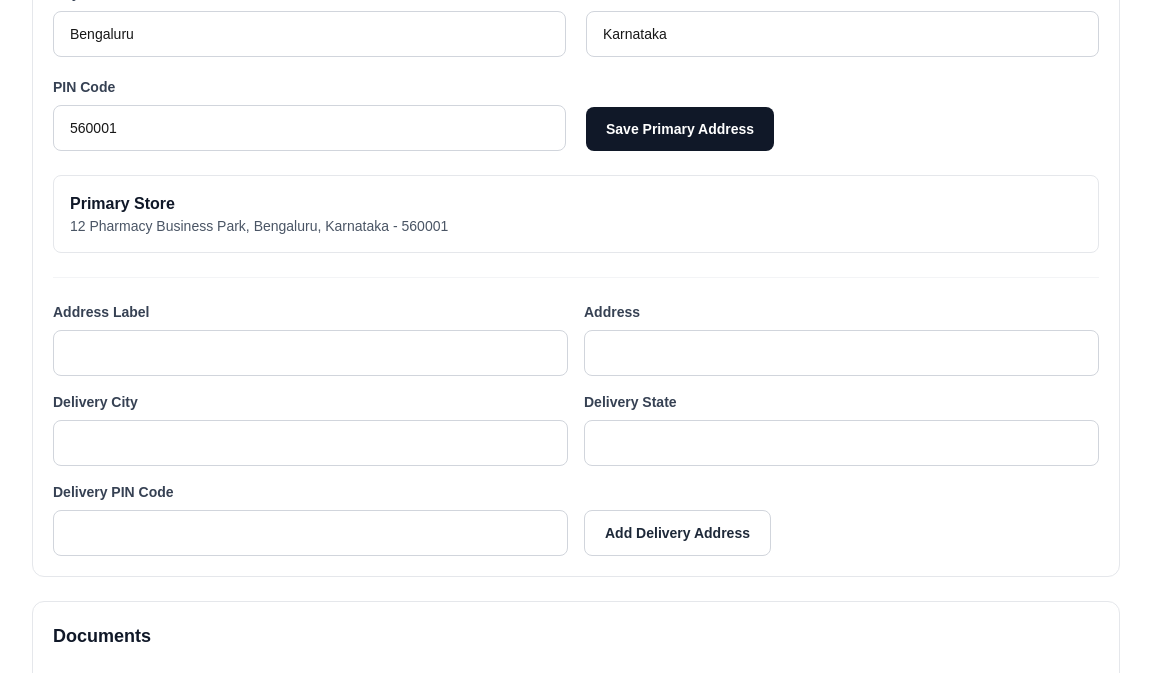
Pharmacy Profile integration › adds a delivery address
(page scrolled)
Type "Warehouse" into the field labelled "Address Label" at (310,353), box [53,330,568,376]
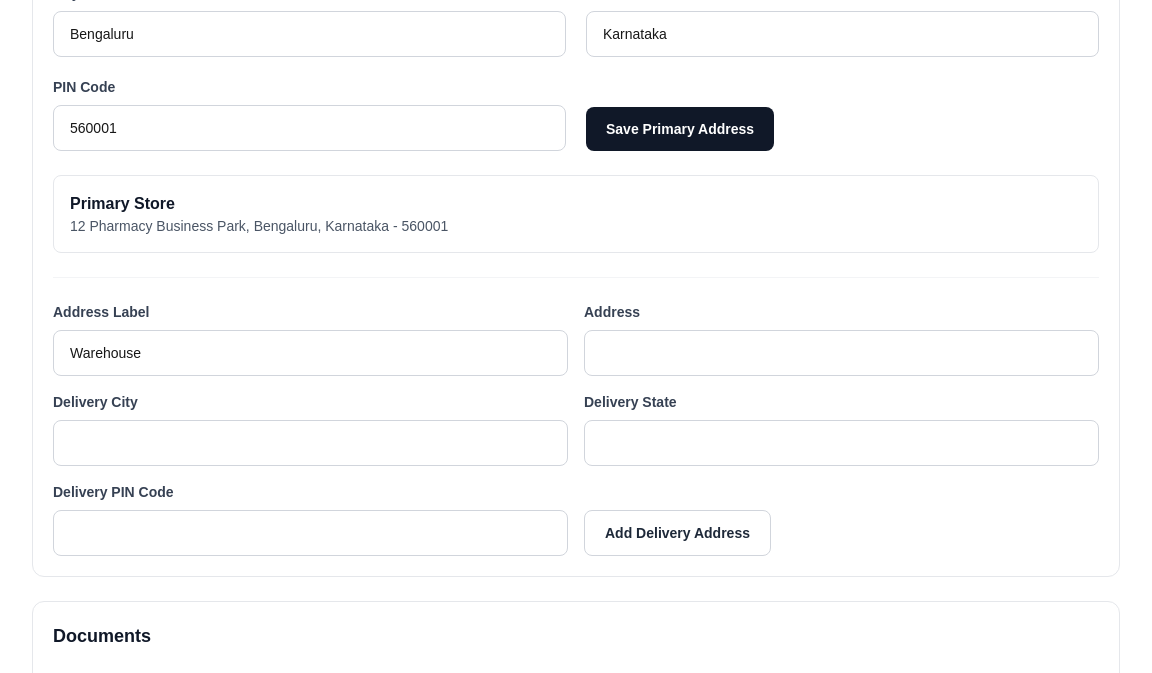
Type "20 Industrial Road" into the field labelled "Address" at (842,353), box [584,330,1099,376]
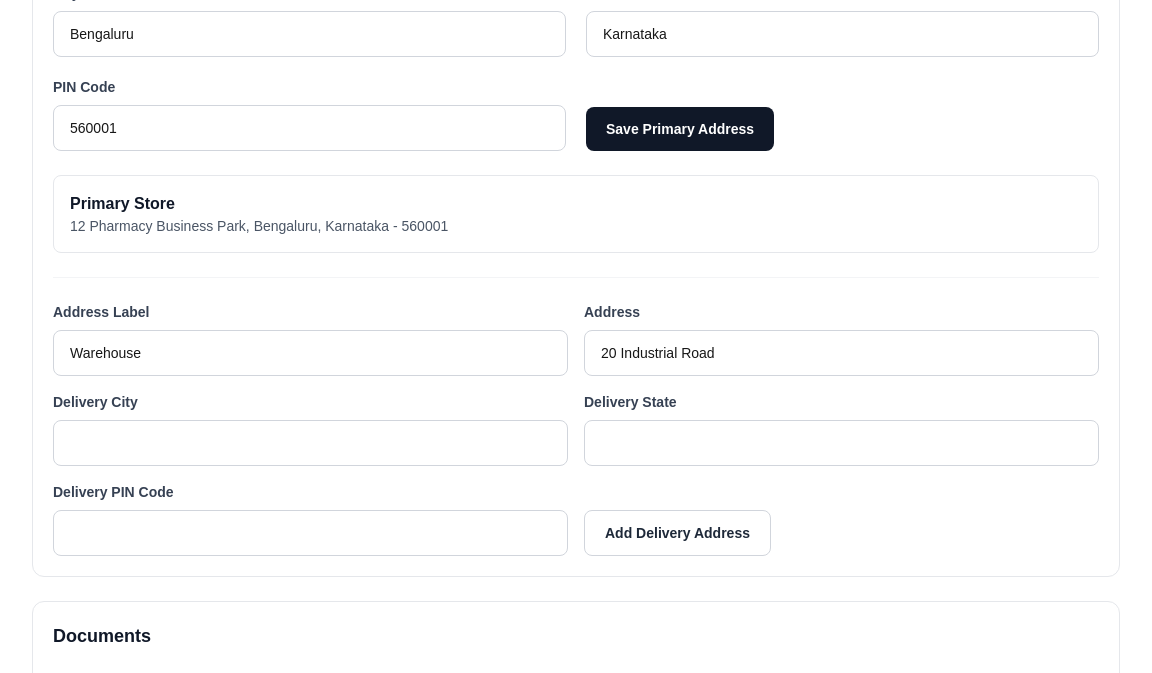
Type "Bengaluru" into the field labelled "Delivery City" at (310,443), box [53,420,568,466]
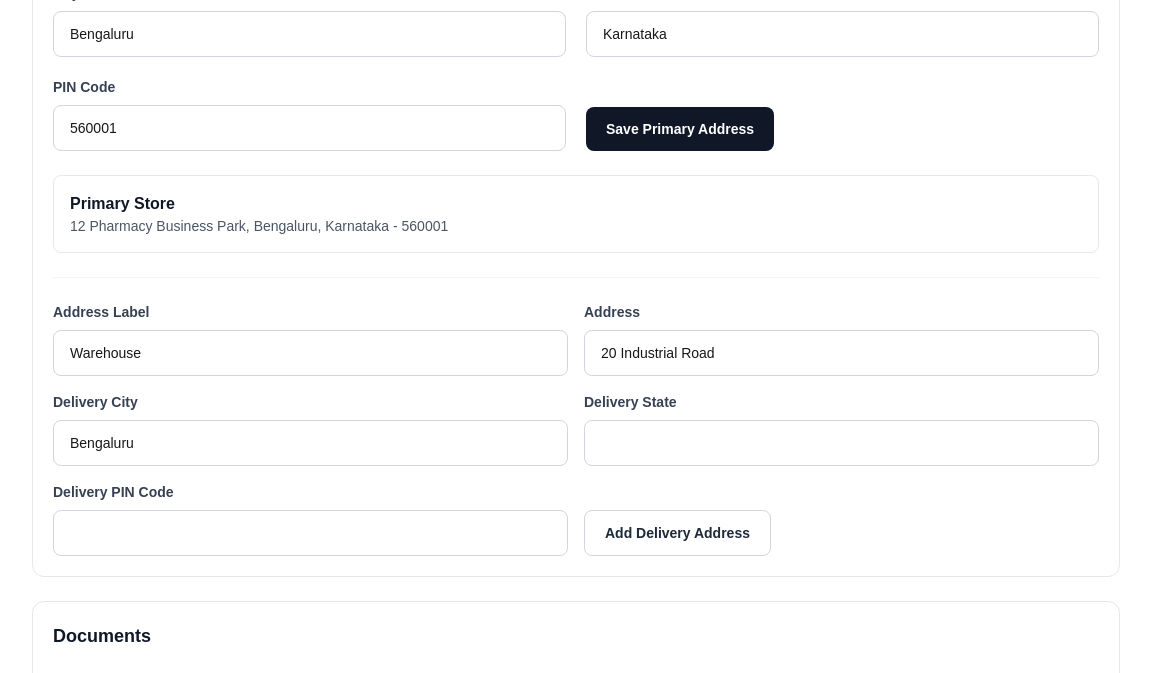
Type "Karnataka" into the field labelled "Delivery State" at (842,443), box [584,420,1099,466]
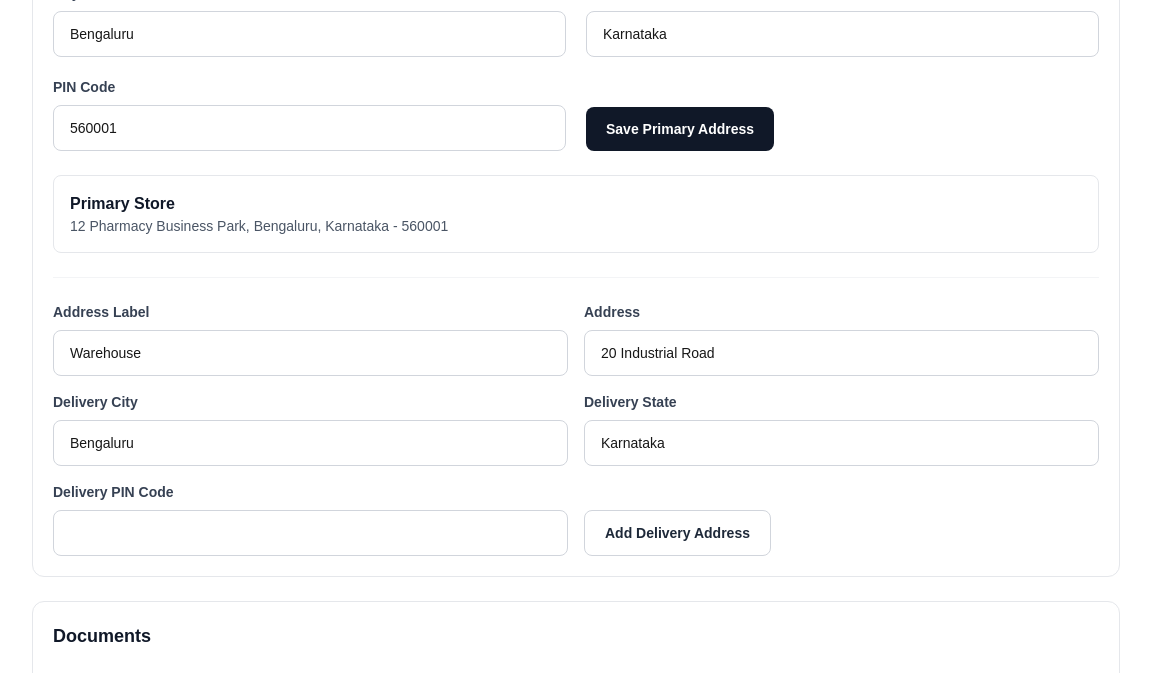
Type "560003" into the field labelled "Delivery PIN Code" at (310,533), box [53,510,568,556]
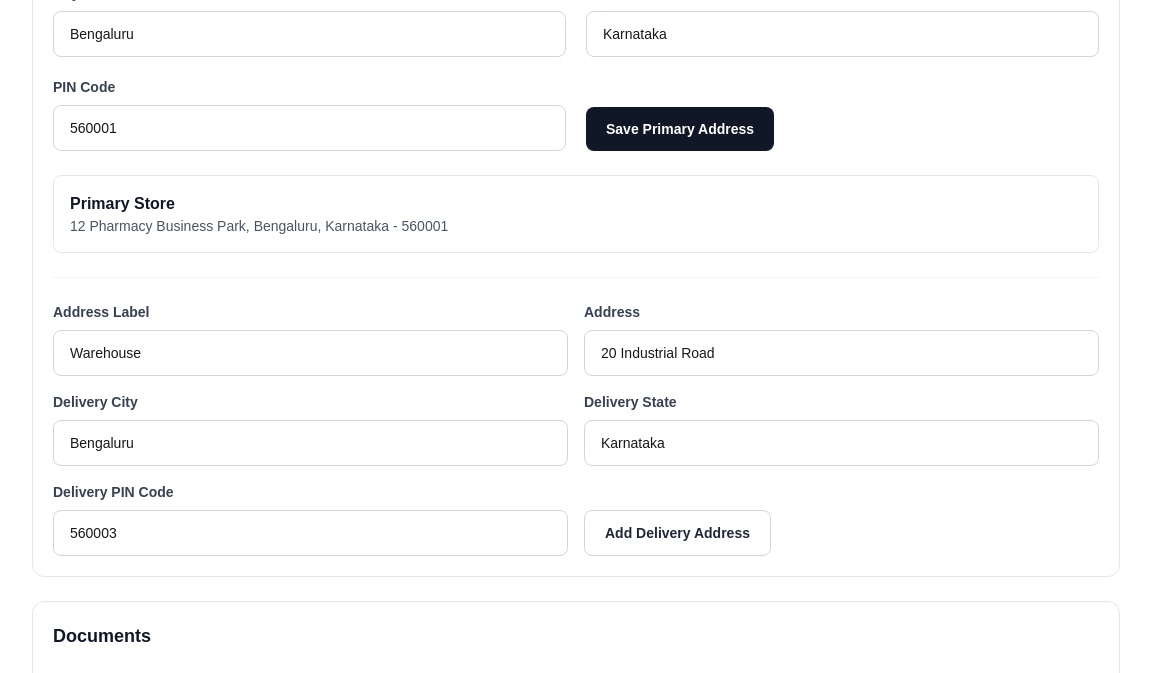
Click the button "Add Delivery Address" at (678,533), box [584,510,771,556]
(page scrolled)
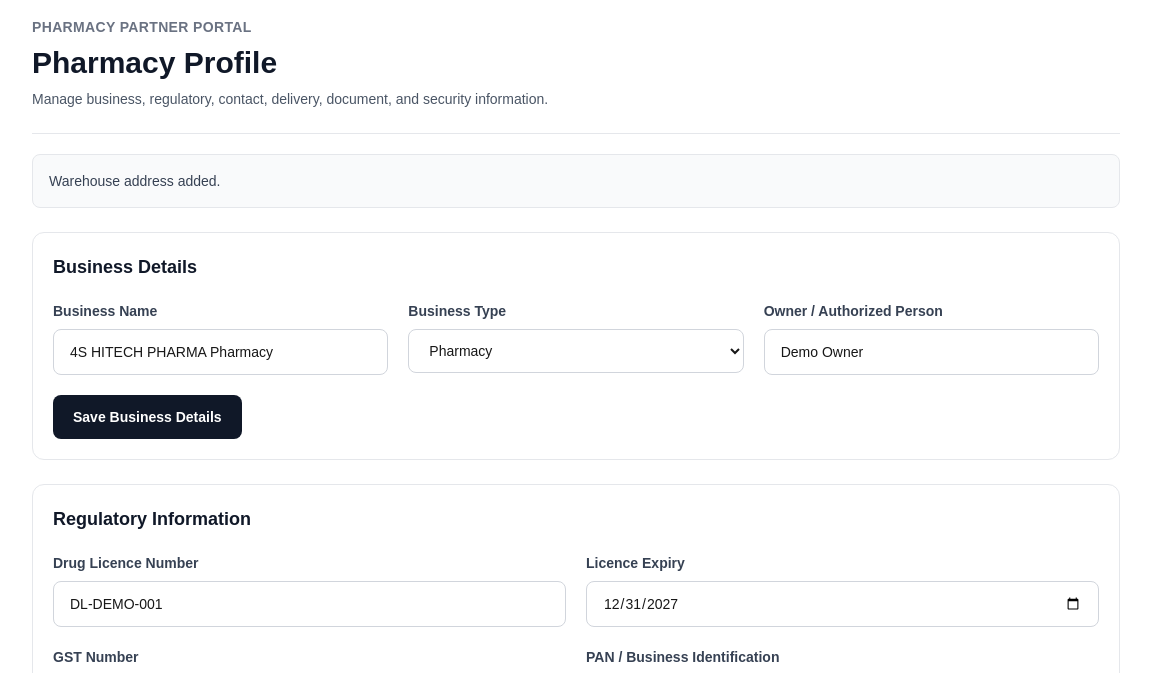
expect the text "Warehouse address added." is shown: met, box [32,154,1120,208]
